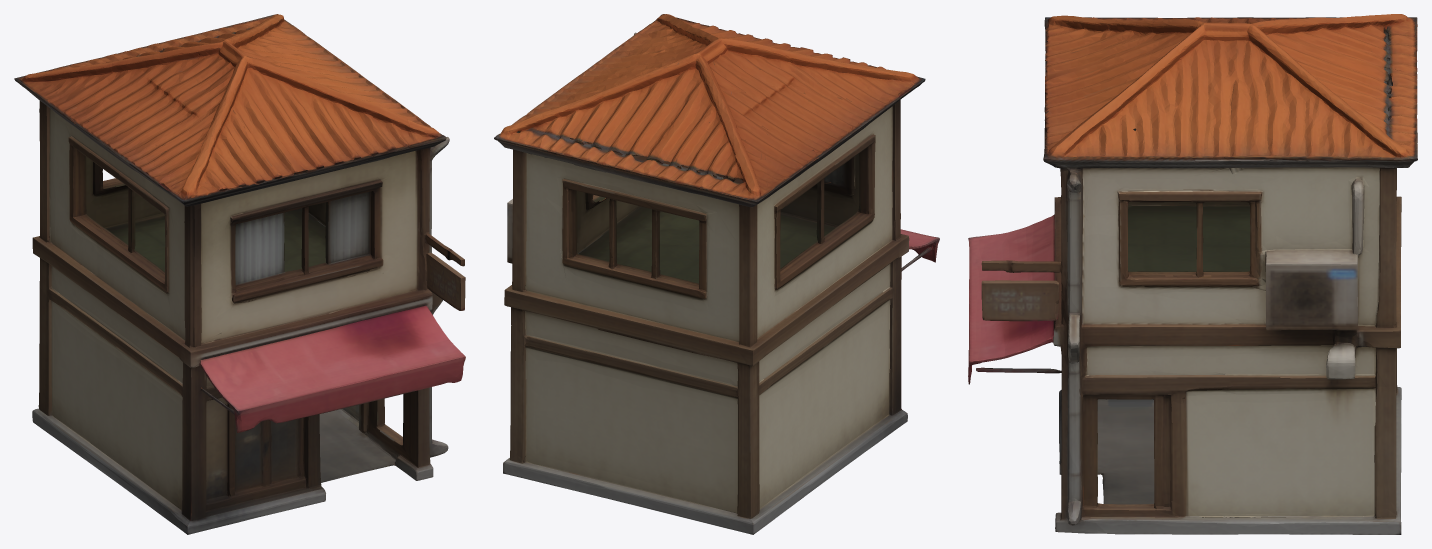
Rendered from cafe_corner.glb.
3 views of the same model, side by side, from view 1: azimuth 30°, elevation 25°; view 2: azimuth 150°, elevation 25°; view 3: azimuth 270°, elevation 25° (orthographic). The views are drawn at different scales.
Parts seen in each view (by area): view 1: world; view 2: world; view 3: world.
Boxes of the visible parts, <box> form: world: <box>14,14,465,534</box>; world: <box>494,14,939,534</box>; world: <box>968,14,1417,534</box>.
Bounding box in the file's own units: 0.7305 × 1 × 0.9186.
1 material, 1 textured.
